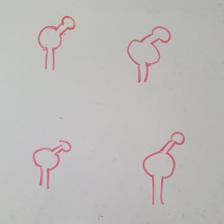aptamer: (141, 131, 185, 205), (127, 26, 171, 84), (38, 16, 77, 71), (32, 140, 72, 189)
